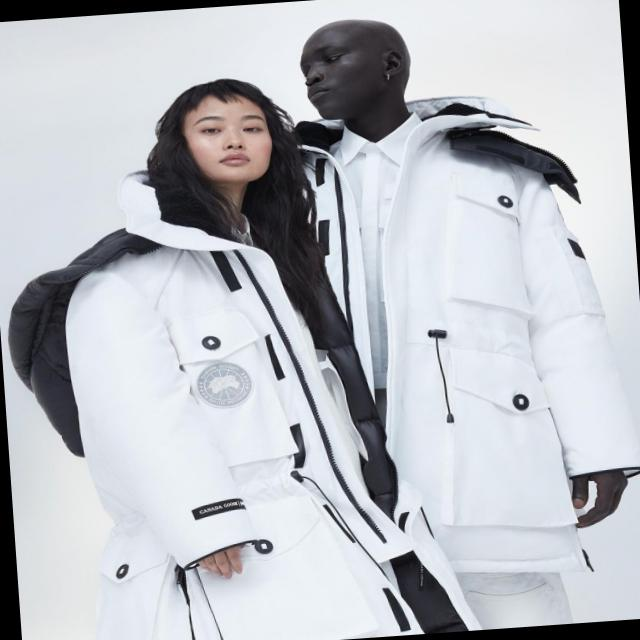Jacket: (24, 181, 467, 640), (293, 95, 640, 535)
